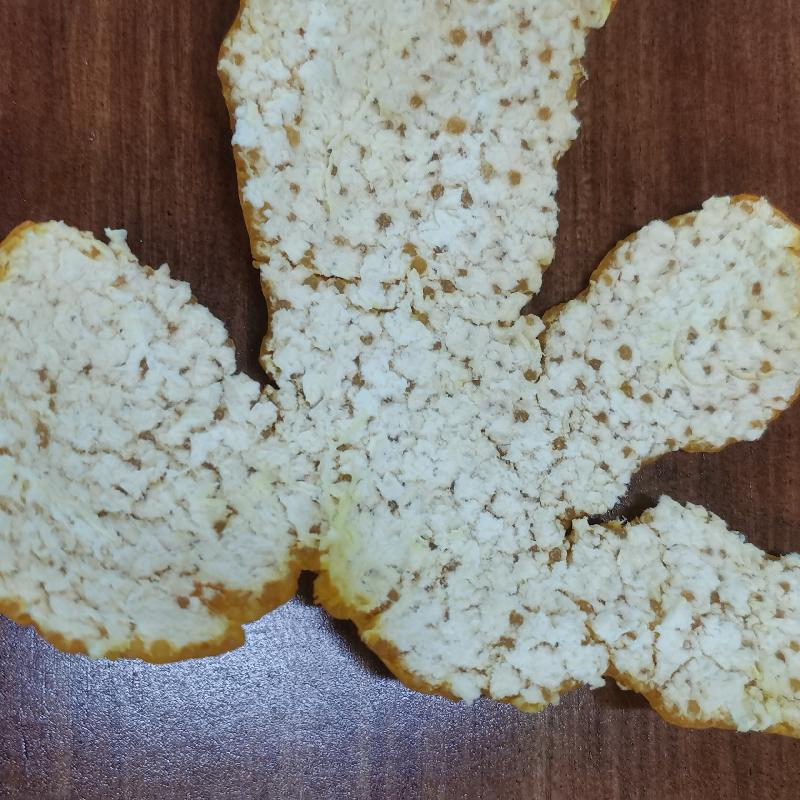orange: (3, 4, 799, 738)
